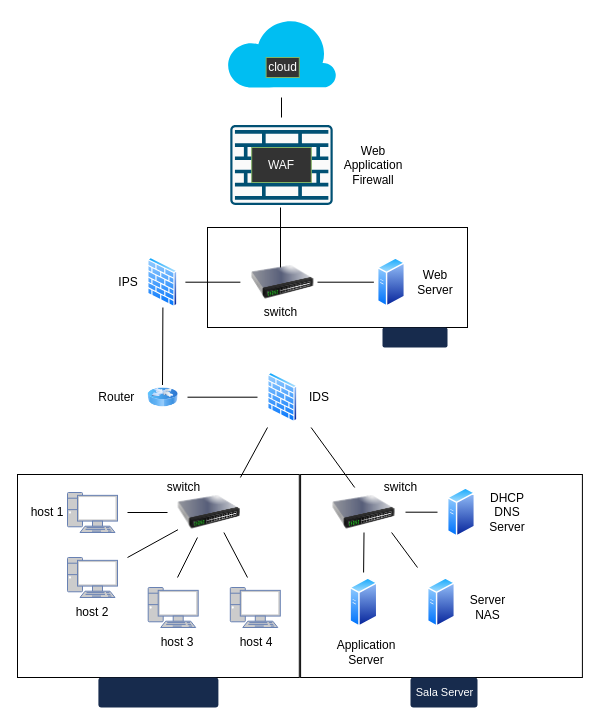
The diagram is 600 pixels wide and 724 high, and some of its shapes have lost their labels. The centre of each missing label's shape, as x and y in pixels:
"DMZ" goes at [414,337].
"Local Area Network" goes at [158,692].
